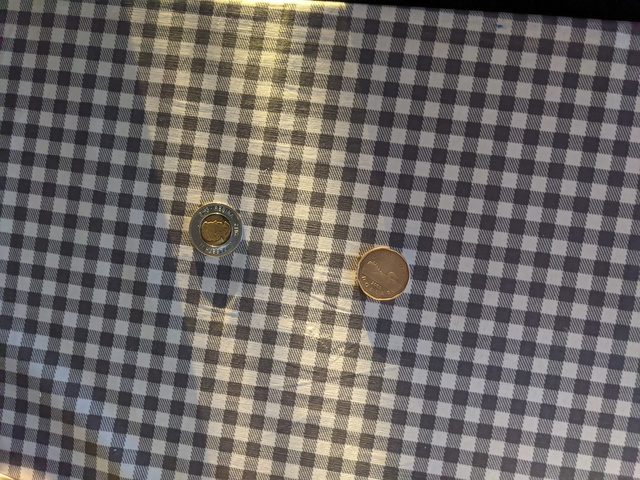loonie: (349, 237, 419, 313)
twonie: (187, 197, 246, 256)
